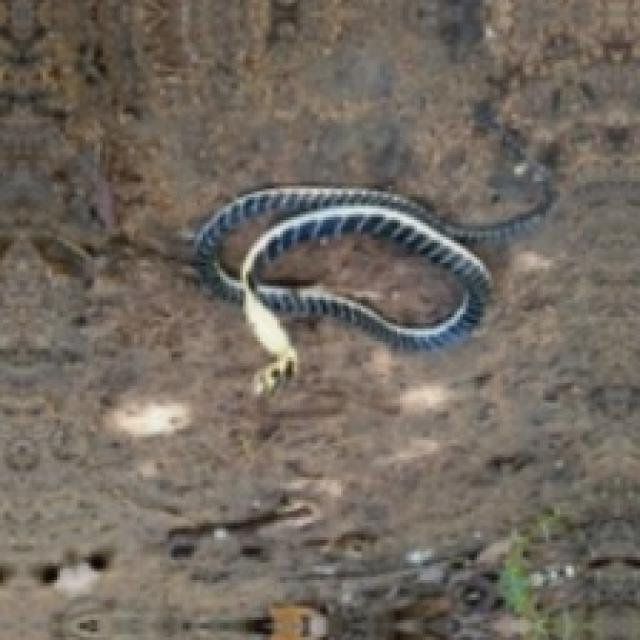king cobra: (194, 126, 554, 391), (254, 229, 457, 320)
